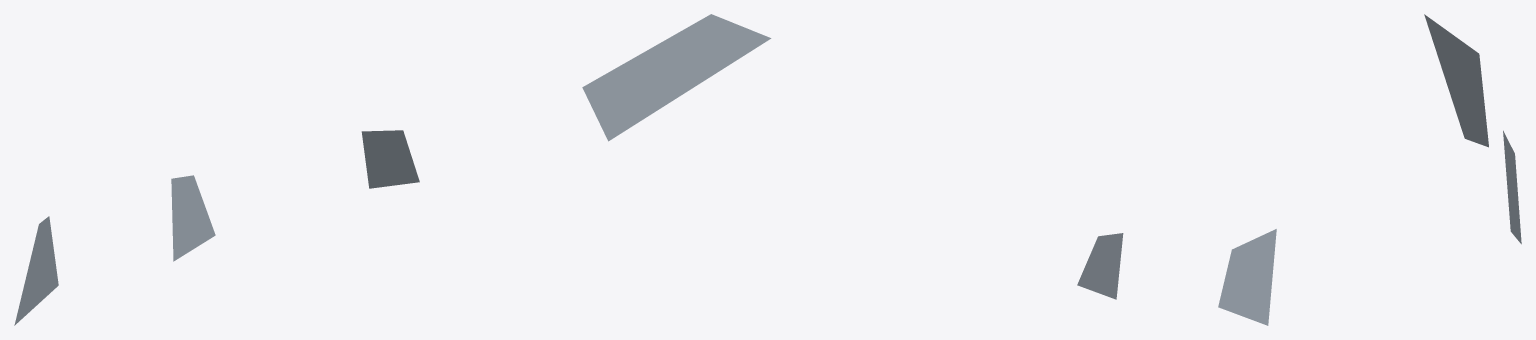
Rendered from palmar-metacarpal-ligaments-l.glb.
3 renders of one model, left to right at view 1: azimuth 30°, elevation 25°; view 2: azimuth 150°, elevation 25°; view 3: azimuth 270°, elevation 25°, orthographic. The views are drawn at different scales.
Visible parts, largest first — view 1: Palmar metacarpal ligaments.l; view 2: Palmar metacarpal ligaments.l; view 3: Palmar metacarpal ligaments.l.
Part boxes in pixels (bbox=[...]): Palmar metacarpal ligaments.l: bbox=[14, 14, 771, 325]; Palmar metacarpal ligaments.l: bbox=[1077, 229, 1276, 325]; Palmar metacarpal ligaments.l: bbox=[1424, 14, 1521, 244].
Bounding box in the file's own units: 0.0335 × 0.0097 × 0.00809.
